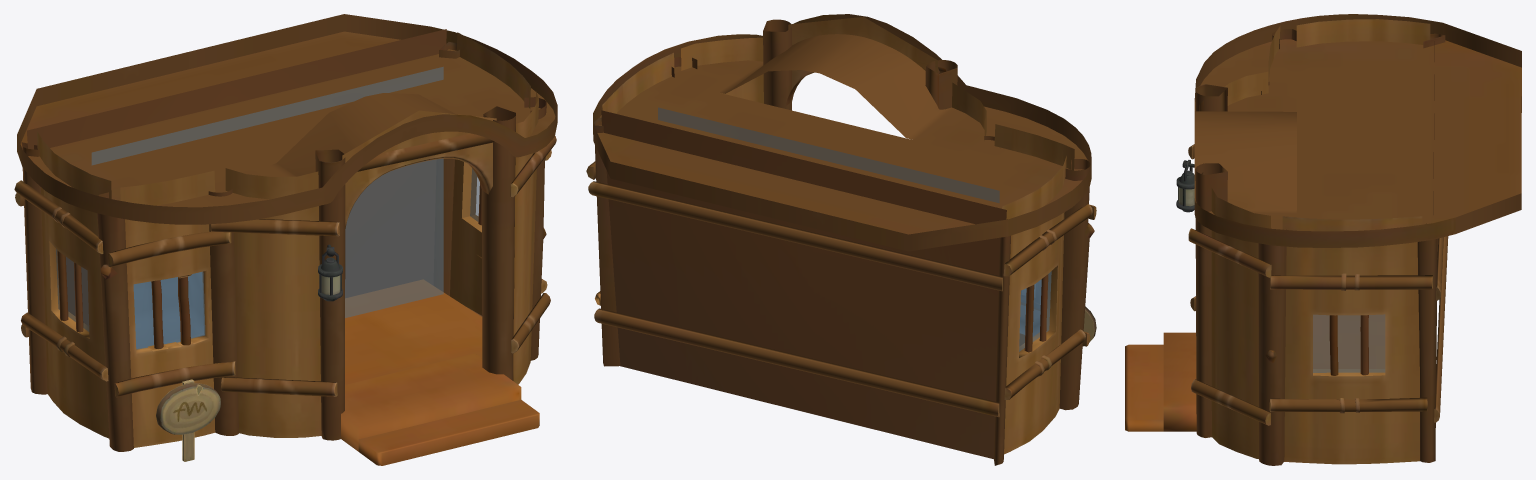
Rendered from wall-nd-wood.glb.
The picture shows the model from 3 angles, left to right: view 1: azimuth 30°, elevation 25°; view 2: azimuth 150°, elevation 25°; view 3: azimuth 270°, elevation 25°; orthographic projection. The views are drawn at different scales.
Bounding box in the file's own units: 39.03 × 24.34 × 30.12.
Materials: 7 (3 with a texture image).
